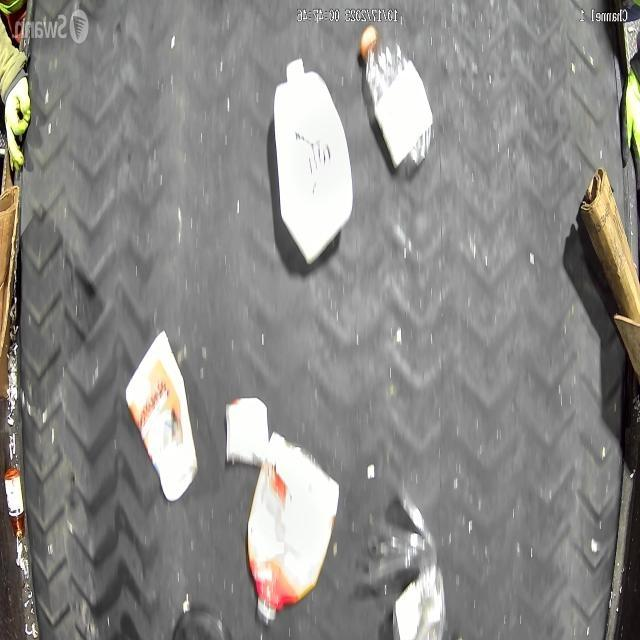milk_jug: (273, 56, 354, 264)
plastic_bottle: (358, 26, 434, 170)
